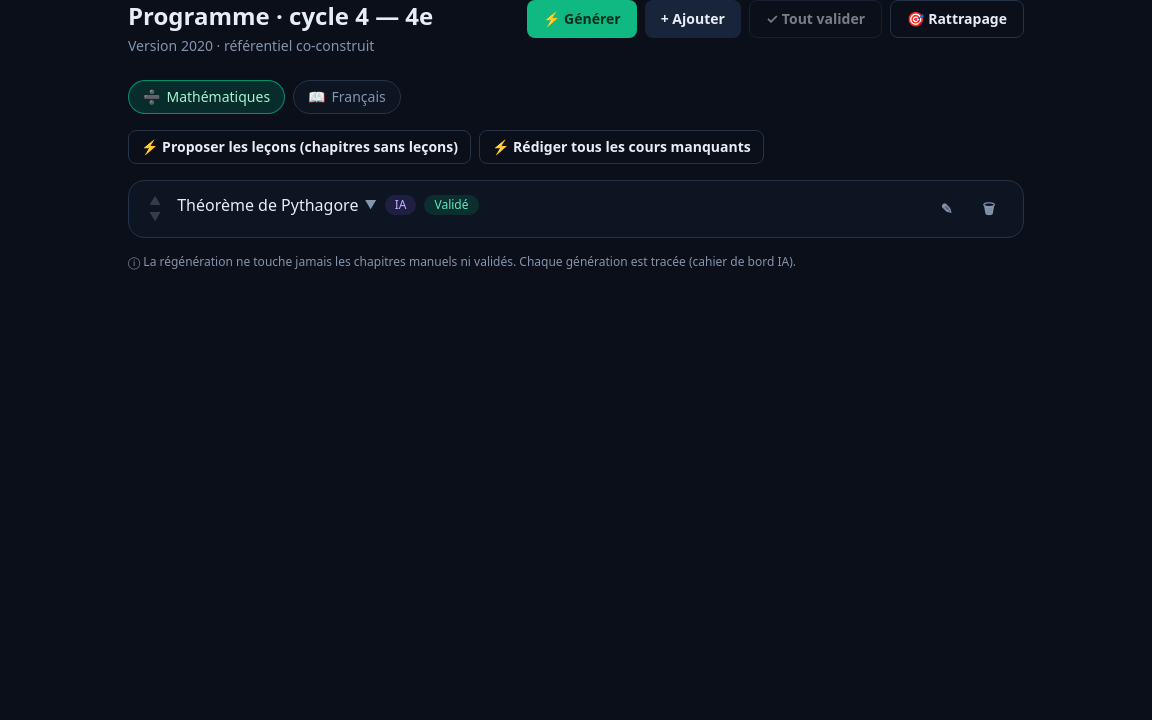
it: ProgrammePage › modale cours : leçon avec contenu → markdown direct ; erreur de rédaction verbatim
This screenshot has width=1152, height=720.
Click the button "Théorème de Pythagore ▼" at coordinates (277, 205), box [177, 193, 377, 217]
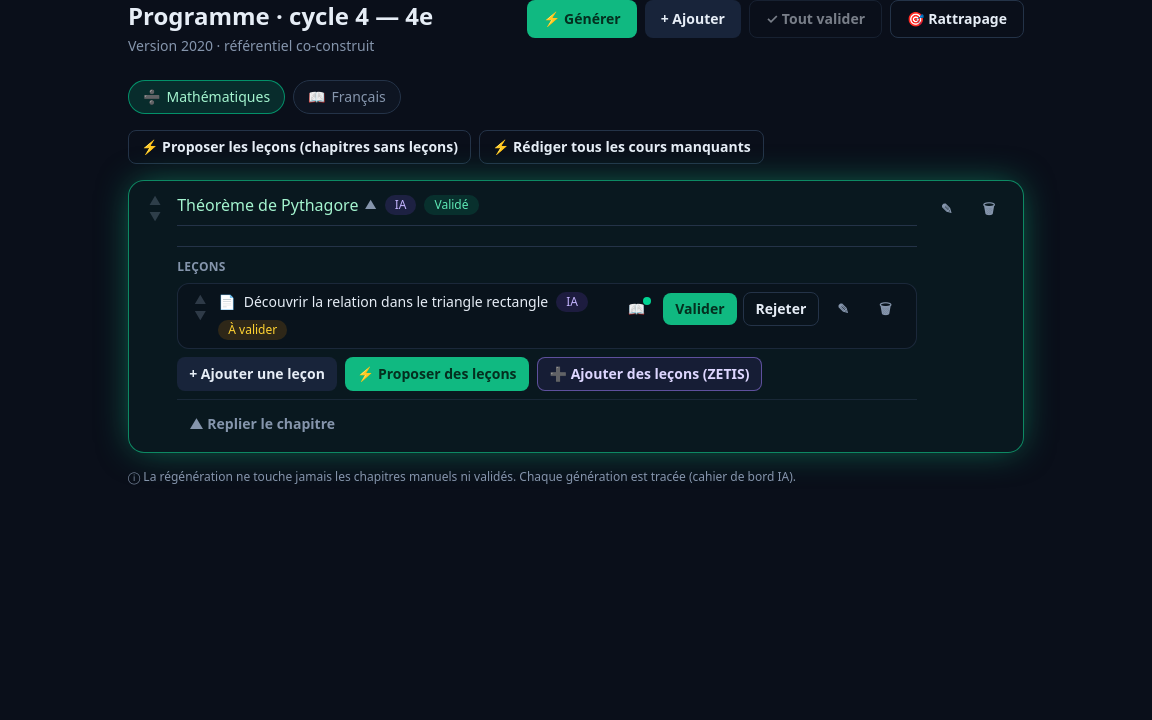
Click the button "📖" at coordinates (636, 309), box [616, 293, 657, 325]
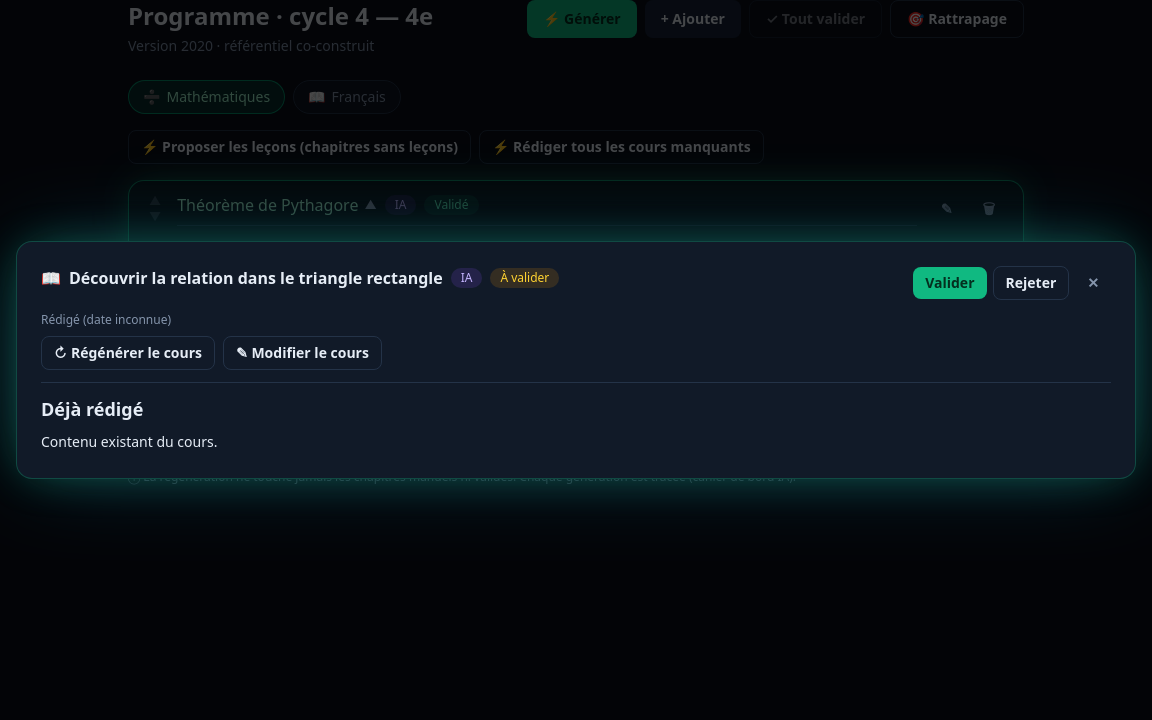
Note: Régénération en échec : detail backend verbatim DANS la modale, contenu conservé.
Click the button "↻ Régénérer le cours" at coordinates (128, 353), box [41, 336, 215, 370]
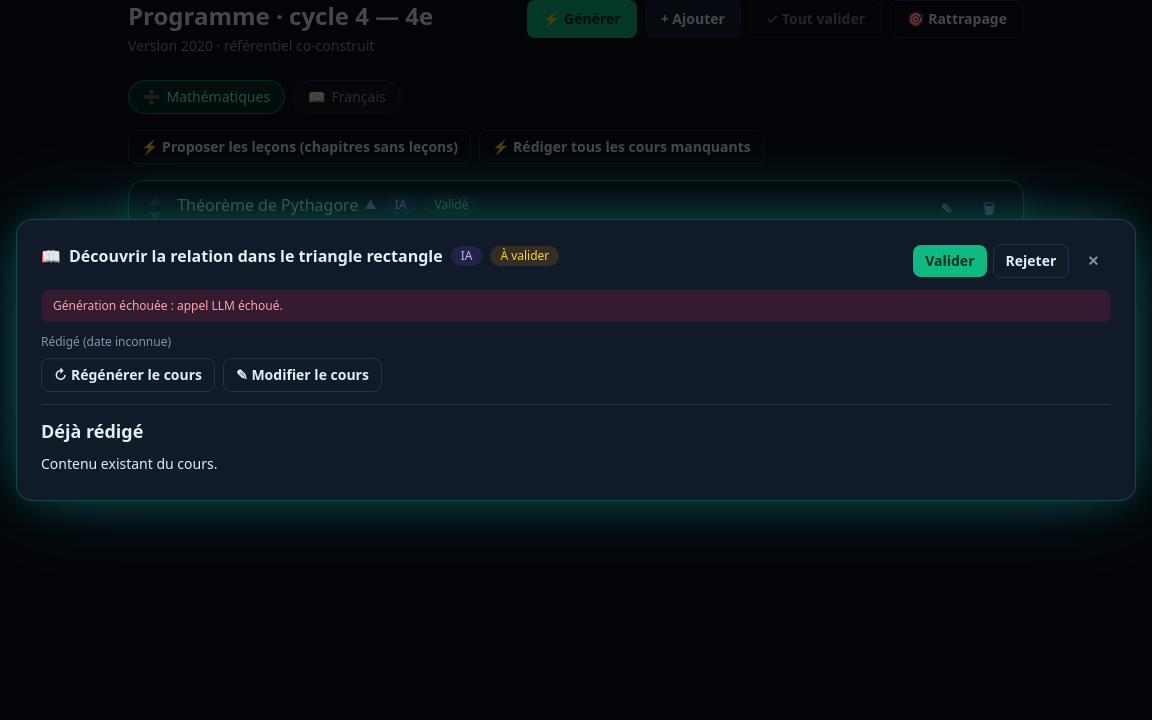
Check: the text "Génération échouée : appel LLM échoué." is shown, box [41, 290, 1111, 322]
